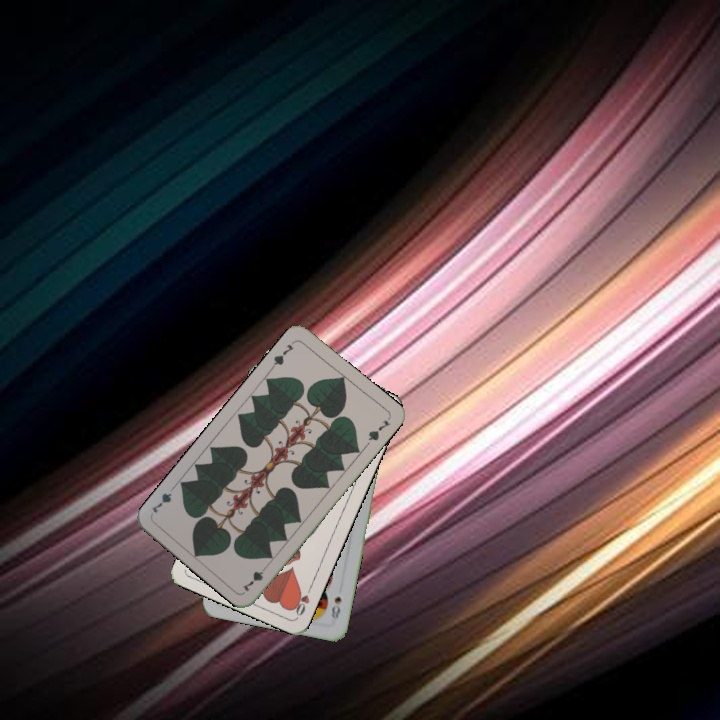G7: (238, 560, 271, 594), (267, 337, 298, 371)
HO: (289, 581, 315, 619)
S8: (327, 593, 345, 625)
